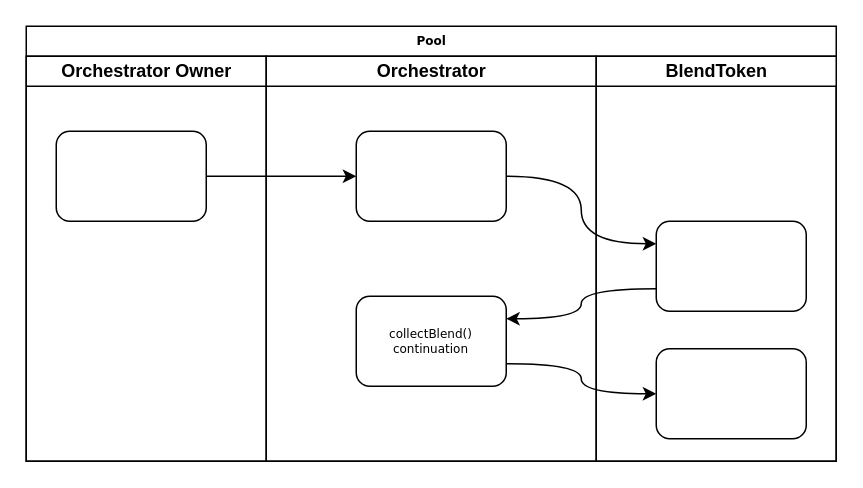
Image size: 863x488. Some labels were removed from this diagram. Here are the shapes that lost their labels. From the top down, the centre of each, then its label:
At point (430, 175): "collectBlend()".
At point (730, 265): "balanceOf(orchestrator)".
At point (730, 393): "transfer( orchestrator.owner, amount)".
